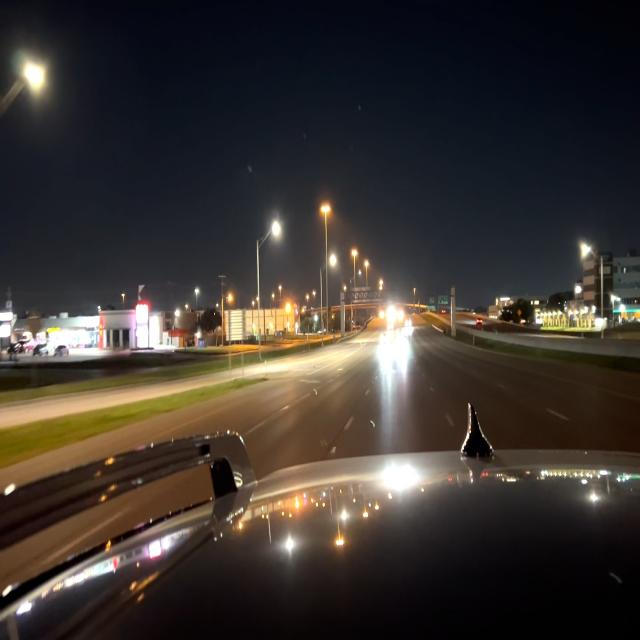back-of-sign: (225, 311, 246, 338)
